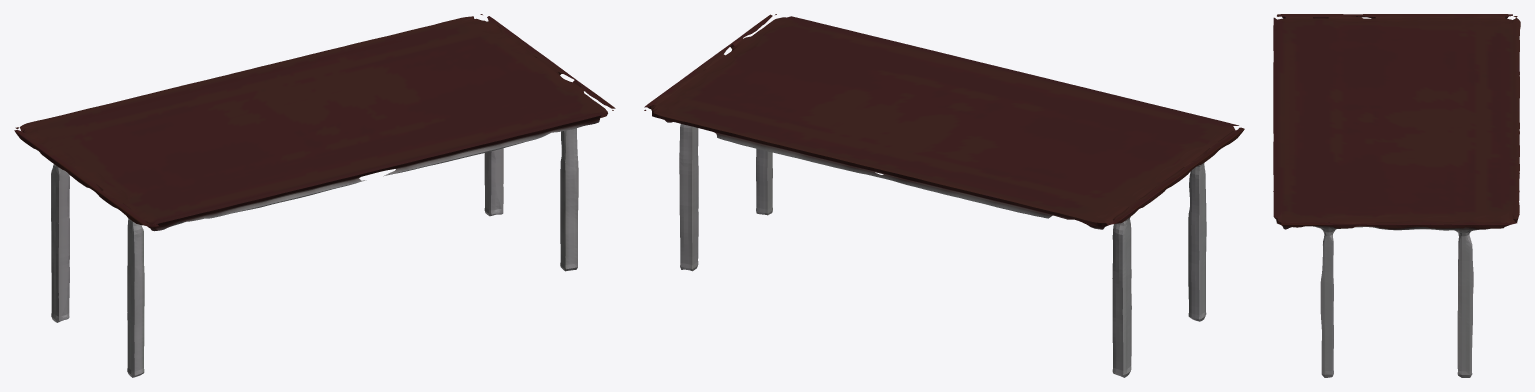
Rendered from table_legs.glb.
3 renders of one model, left to right at view 1: azimuth 30°, elevation 25°; view 2: azimuth 150°, elevation 25°; view 3: azimuth 270°, elevation 25°, orthographic. The views are drawn at different scales.
Parts seen in each view (by area): view 1: tmpxtdfkk_b.ply; view 2: tmpxtdfkk_b.ply; view 3: tmpxtdfkk_b.ply.
Boxes of the visible parts, box(x1,y1,x2,y2) form: tmpxtdfkk_b.ply: box(14, 14, 615, 377); tmpxtdfkk_b.ply: box(644, 14, 1244, 377); tmpxtdfkk_b.ply: box(1273, 14, 1520, 377).
Size of the model in its own units: 1.97 by 0.701 by 0.9786.
